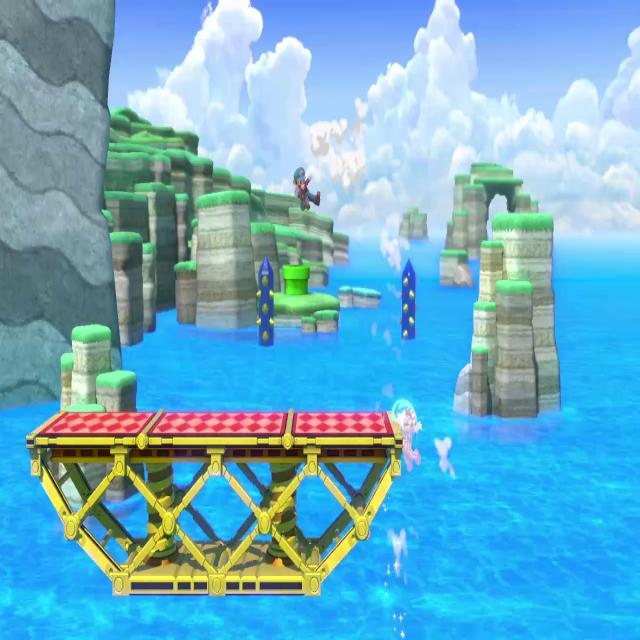Mario-LH: (394, 402, 425, 475)
Mario-NA: (291, 159, 324, 214)
